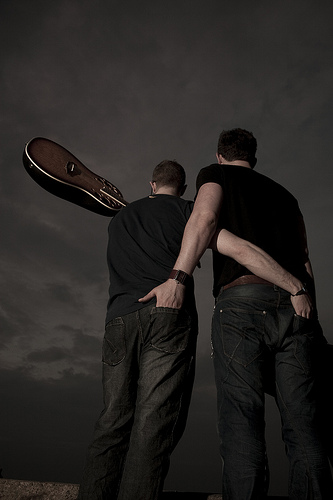guitar: (16, 135, 136, 217)
